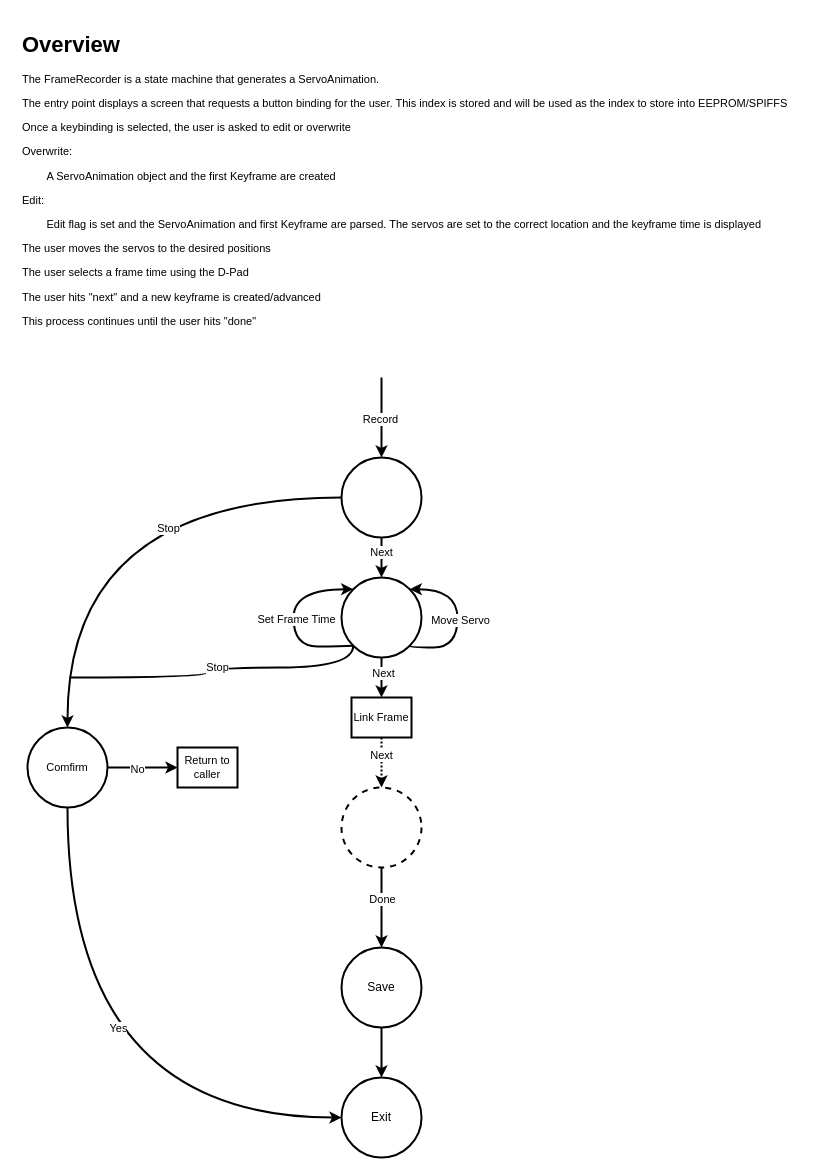
Some shapes in this 814 by 1175 pixel diagram are drawn without their labels. The centre of each missing label's shape, as x and y in pixels:
"Frame 0" belongs at (381,617).
"Frame N" belongs at (381,827).
"Select Button Binding" belongs at (381,497).
